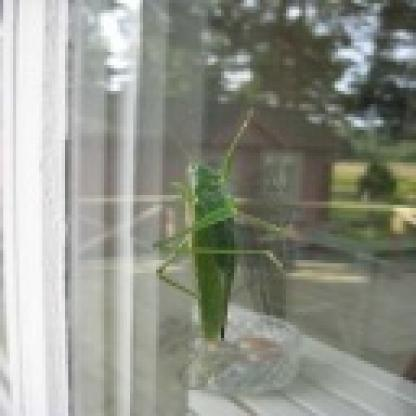grasshopper: (148, 117, 291, 345)
